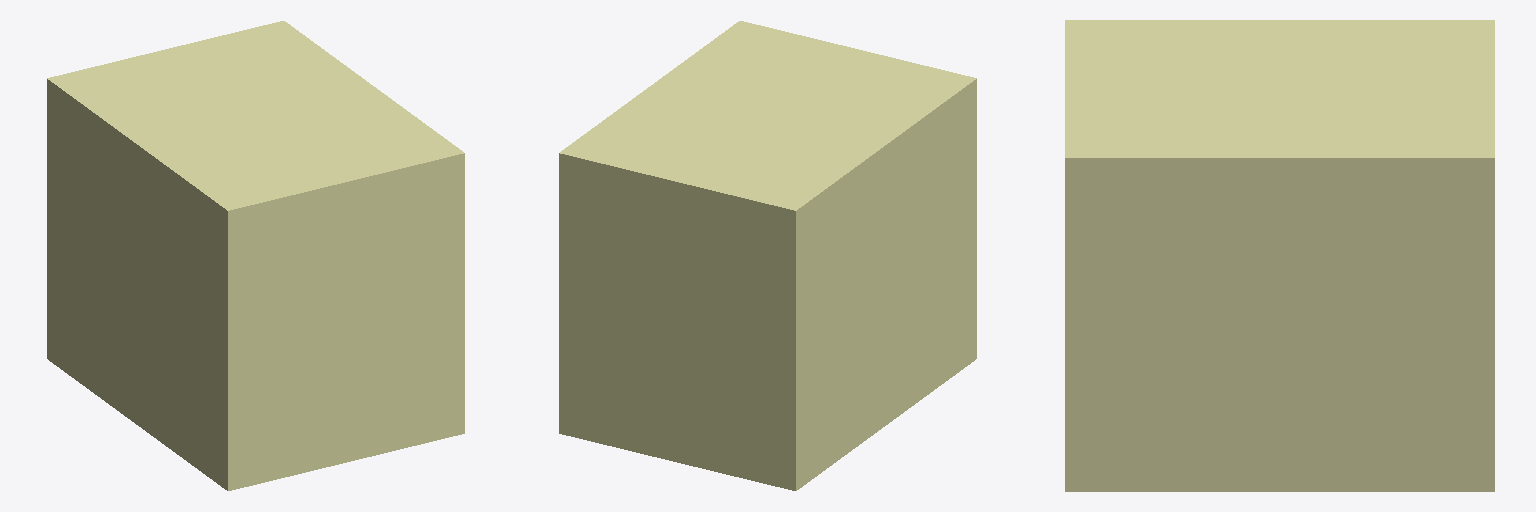
URDF robot description (box.urdf):
<?xml version="1.0" ?>
<robot name="box.urdf">
  <link name="baseLink">
    <contact>
      <lateral_friction value="1.0"/>
      <rolling_friction value="0.0001"/>
      <inertia_scaling value="3.0"/>
    </contact>
    <inertial>
      <origin rpy="0 0 0" xyz="0 0 0"/>
       <mass value="0.1"/>
       <inertia ixx="1" ixy="0" ixz="0" iyy="1" iyz="0" izz="1"/>
    </inertial>
    <visual>
      <origin rpy="0 0 0" xyz="0 0 0"/>
      <geometry>
        <!-- <box size="0.223 0.295 0.252"/> -->
        <mesh filename="box/box.obj" scale="0.223 0.295 0.252"/>
      </geometry>
      <material name="white">
        <color rgba="0.9 0.9 0.7 1"/>
      </material>
    </visual>
    <collision>
      <origin rpy="0 0 0" xyz="0 0 0"/>
      <geometry>
        <mesh filename="box/box.obj" scale="0.223 0.295 0.252"/>
	 	    <!-- <box size="0.223 0.295 0.252"/> -->
      </geometry>
    </collision>
  </link>
</robot>

--- Render facts (derived) ---
Views: 3 orthographic renders of the robot side by side, from view 1: azimuth 30°, elevation 25°; view 2: azimuth 150°, elevation 25°; view 3: azimuth 270°, elevation 25°.
Robot: box.urdf — 1 links, 0 joints (none); root link baseLink; default pose: all joints at 0.
Links seen in each view (by area): view 1: baseLink; view 2: baseLink; view 3: baseLink.
Boxes of the visible links, x1,y1,x2,y2 form: baseLink: [47, 21, 464, 490]; baseLink: [559, 21, 976, 490]; baseLink: [1065, 20, 1494, 491].
Size in the robot's own frame: 0.223 by 0.295 by 0.252 metres.
Meshes: 1 distinct files referenced, 1 mesh visuals loaded (1 OBJ).
